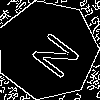N: (22, 24, 82, 81)
